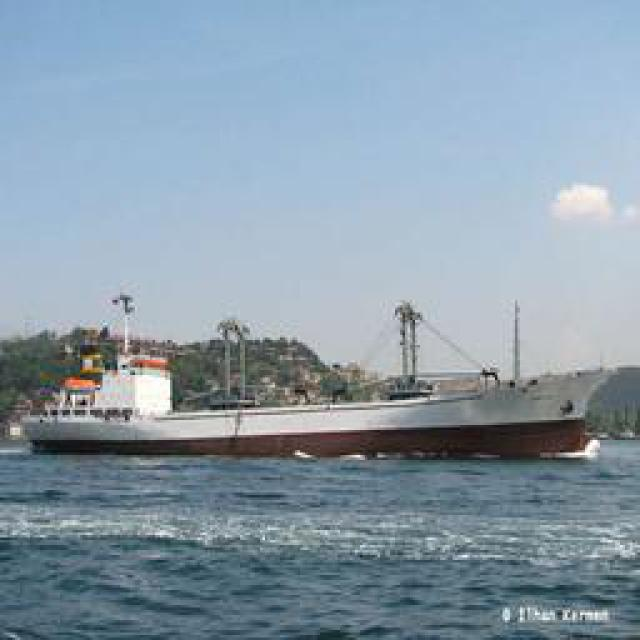Ship: (8, 298, 613, 463)
